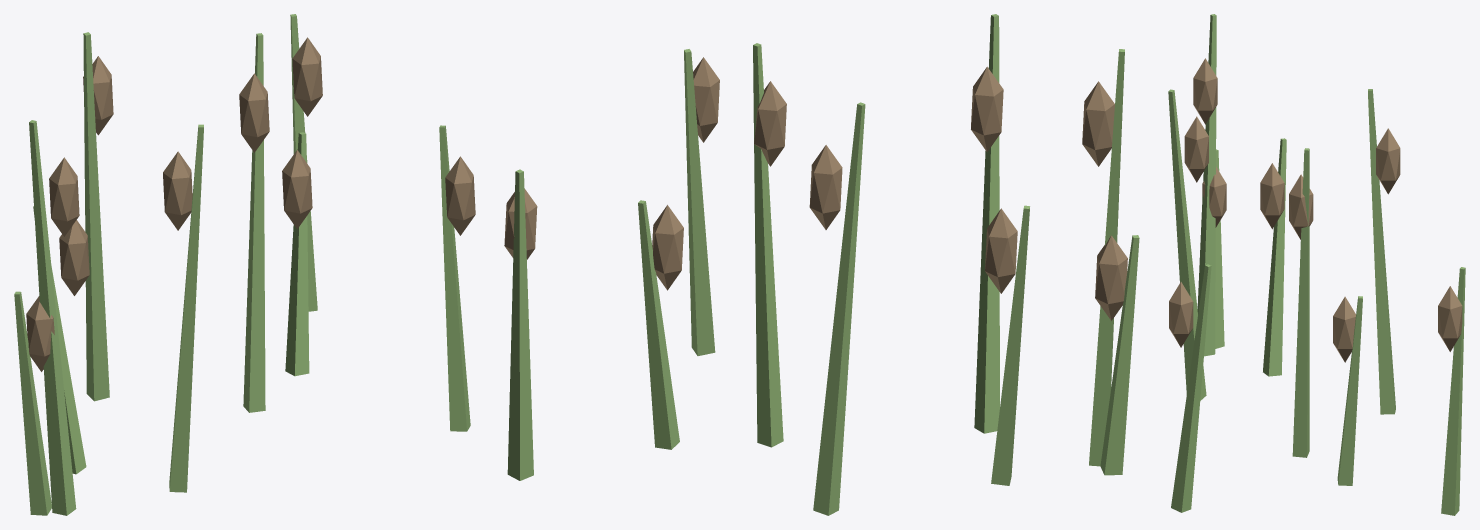
File: civ_nature_reed.glb
3 views of the same model, side by side, from view 1: azimuth 30°, elevation 25°; view 2: azimuth 150°, elevation 25°; view 3: azimuth 270°, elevation 25° (orthographic). The views are drawn at different scales.
Visible parts, largest first — view 1: civ_nature_reed; view 2: civ_nature_reed; view 3: civ_nature_reed.
Part boxes in pixels (box(x1,y1,x2,y2)): civ_nature_reed: box(14, 14, 475, 515); civ_nature_reed: box(504, 14, 1139, 515); civ_nature_reed: box(1168, 14, 1465, 515).
Bounding box in the file's own units: 1.05 × 0.8874 × 0.7274.
